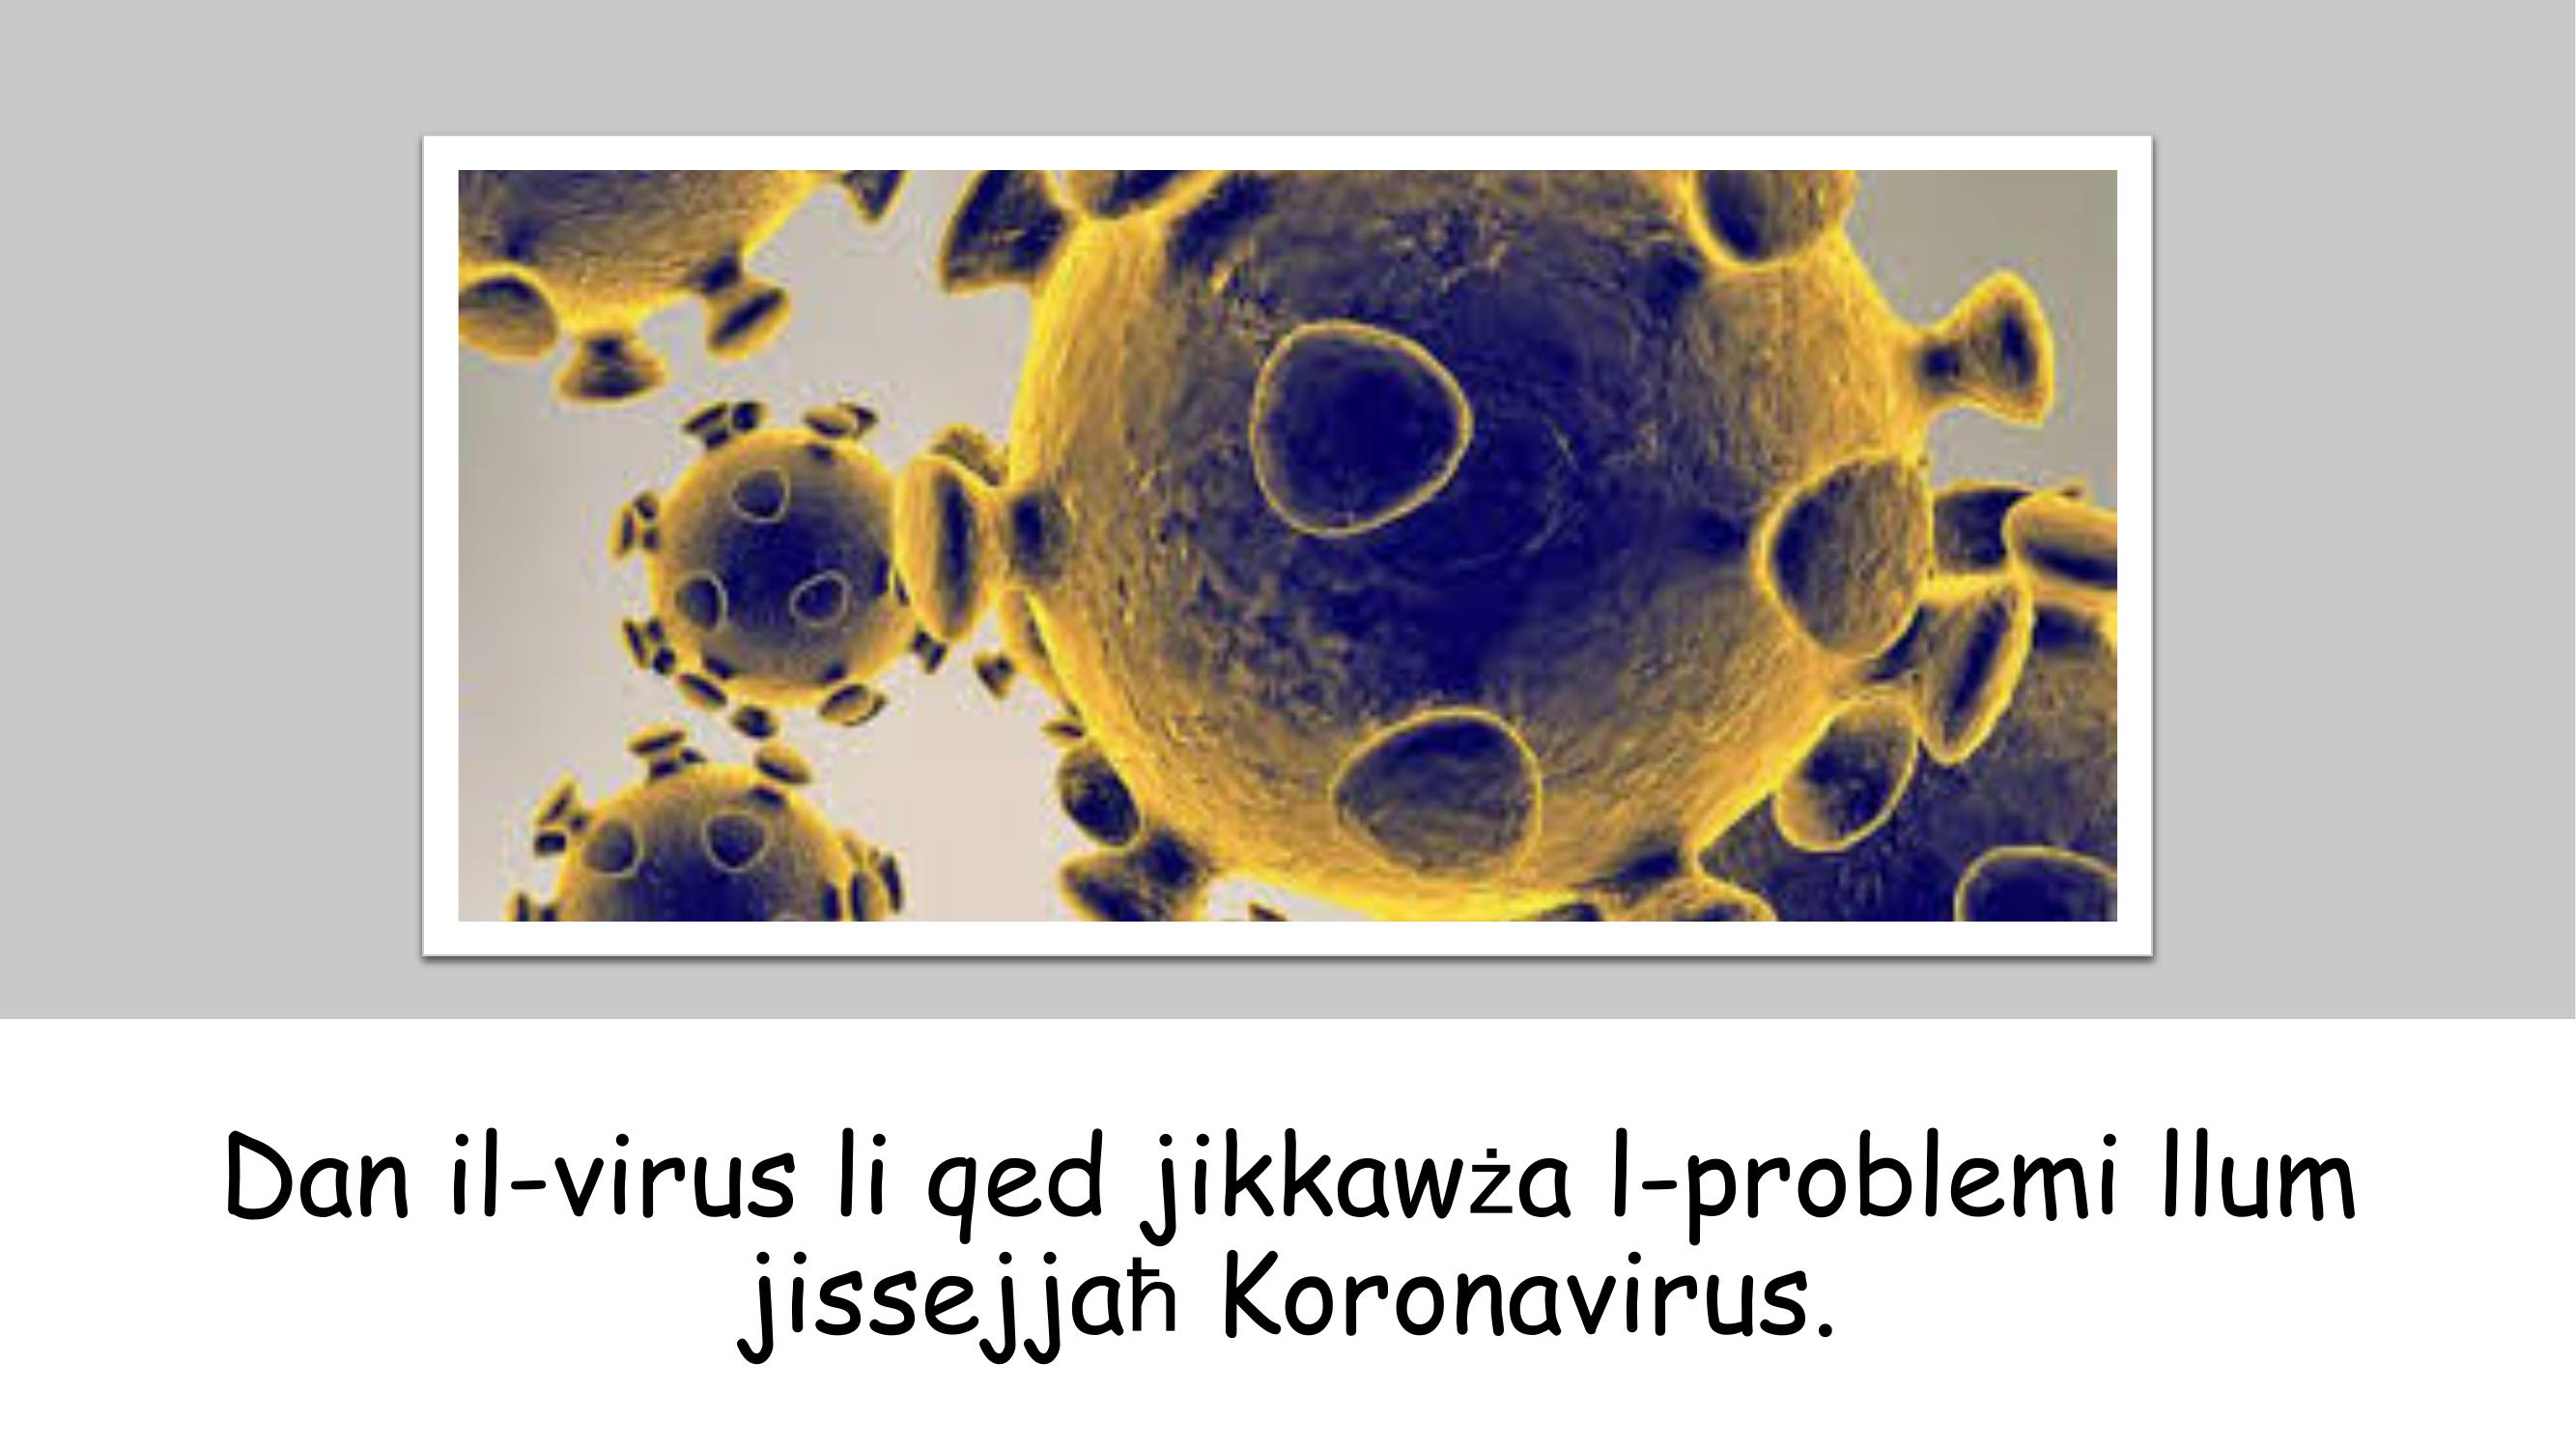text: (205, 1100, 2380, 1380)
